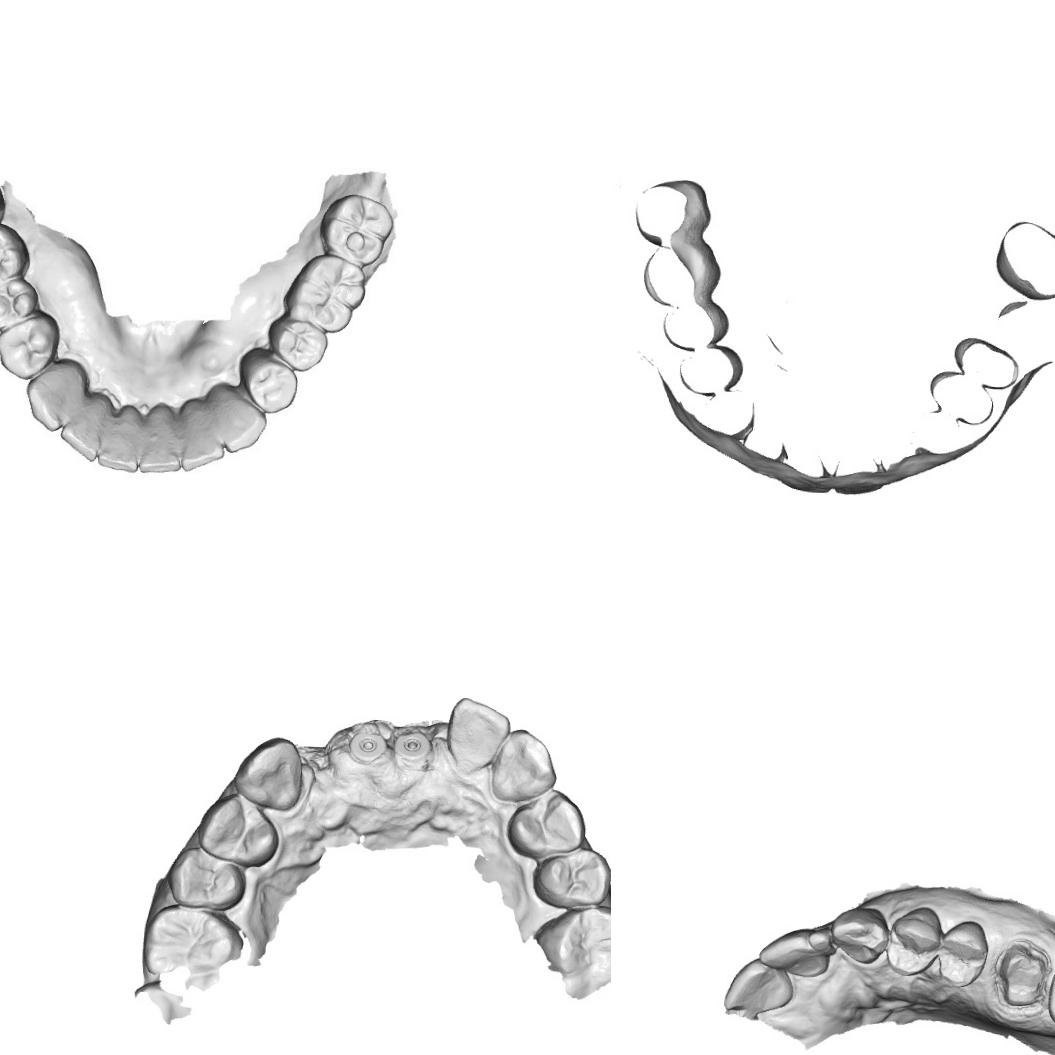canine: (231, 734, 307, 812), (490, 725, 560, 806), (23, 362, 83, 430), (830, 902, 892, 967), (208, 385, 264, 448)
crown: (988, 934, 1052, 1018)
implant: (391, 729, 429, 764), (350, 728, 384, 764)
incisor: (444, 694, 510, 774), (722, 956, 797, 1020), (758, 925, 831, 979), (95, 400, 145, 474), (134, 402, 182, 476), (180, 396, 226, 472), (57, 392, 106, 463)
molar: (141, 902, 241, 982), (278, 251, 370, 337), (538, 897, 611, 1001), (318, 194, 396, 270), (0, 218, 33, 296)
premolar: (195, 790, 280, 868), (506, 788, 585, 862), (532, 843, 611, 910), (168, 845, 246, 912), (884, 902, 944, 980), (0, 312, 60, 381), (934, 918, 990, 990), (239, 349, 300, 414), (265, 315, 328, 372), (0, 276, 37, 331)
